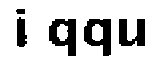i: (12, 5, 37, 52)
q: (82, 15, 115, 60), (47, 16, 79, 60)
u: (116, 16, 149, 52)
